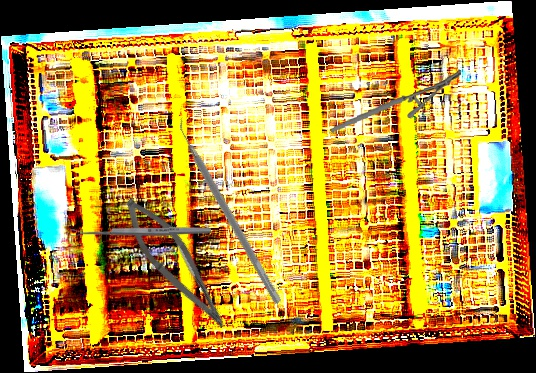Micro Scissor: (109, 189, 244, 337)
Needle Holder: (326, 69, 466, 133)
Spatula Surgical: (169, 113, 290, 306)
Surgical Spoon: (69, 225, 212, 238)
